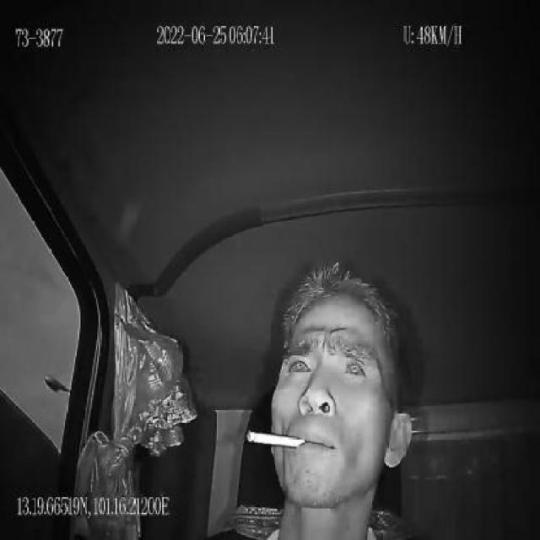smoking: (243, 425, 307, 454)
